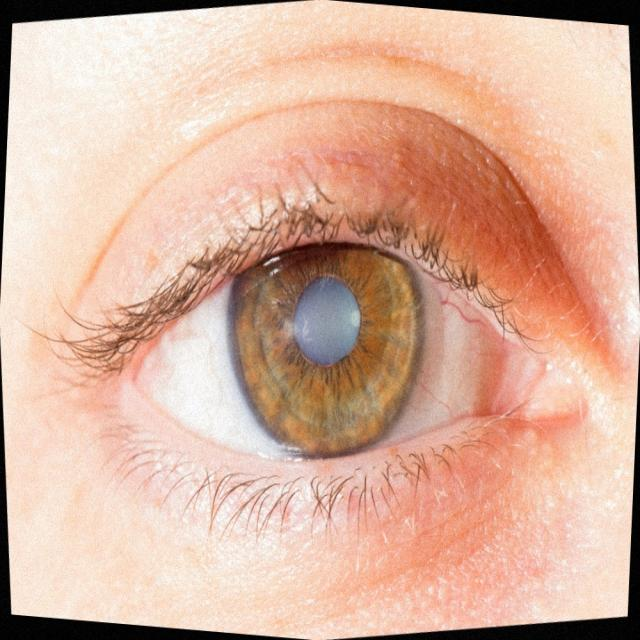Cataract: (92, 205, 567, 488)
